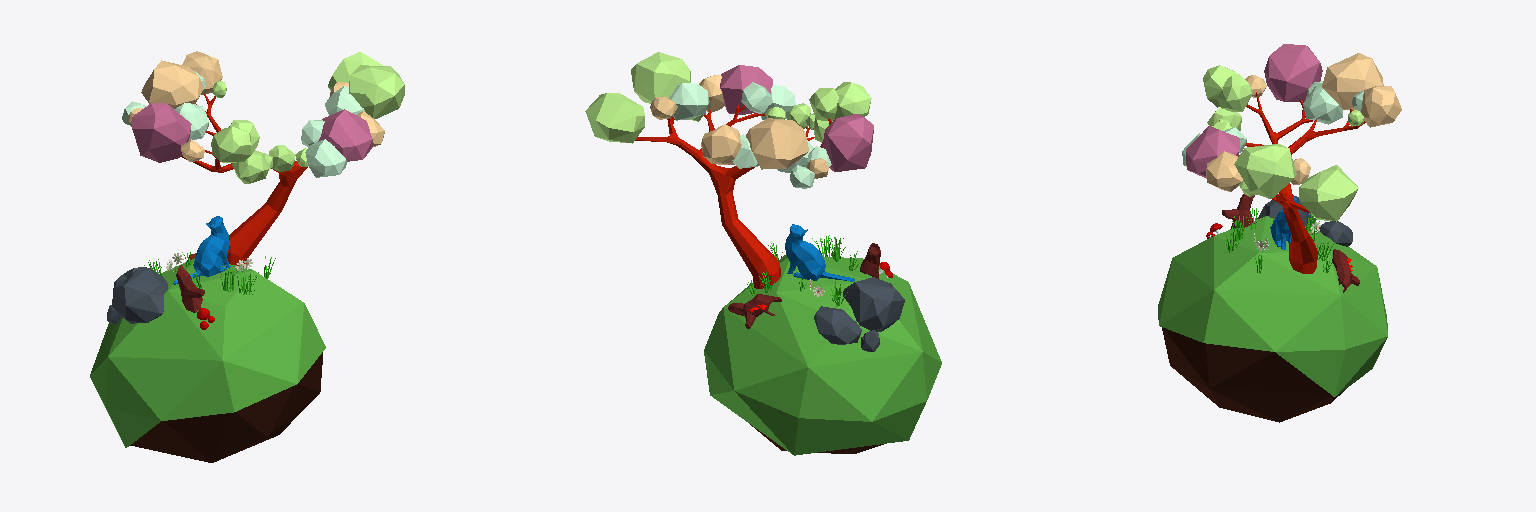
The model's file is 3_lowpolyisland2_forweb_v3.obj.
3 renders of one model, left to right at view 1: azimuth 30°, elevation 25°; view 2: azimuth 150°, elevation 25°; view 3: azimuth 270°, elevation 25°, orthographic.
Visible parts, largest first — view 1: Icosphere.025, Cube, Icosphere.017, Rock1_Icosphere.028, Icosphere.001, Icosphere.010, Icosphere.006, Cat_Plane.001, Icosphere.020, Icosphere.007, Icosphere.011, Icosphere.023 (+5 smaller); view 2: Icosphere.025, Cube, Icosphere.010, Icosphere.017, Rock1_Icosphere.028, Icosphere, Icosphere.001, Cat_Plane.001, Icosphere.006, Rock3_Icosphere.029, Icosphere.011, Icosphere.002 (+6 smaller); view 3: Icosphere.025, Cube, Icosphere.017, Icosphere.001, Icosphere, Icosphere.010, Icosphere.006, Icosphere.011, Icosphere.014, Icosphere.004, Icosphere.021, Icosphere.020 (+4 smaller).
Part boxes in pixels (x1,y1,x2,y2): Icosphere.025: (90,258,325,462); Cube: (181,94,307,266); Icosphere.017: (132,103,191,162); Rock1_Icosphere.028: (112,268,167,323); Icosphere.001: (349,65,404,118); Icosphere.010: (141,60,203,108); Icosphere.006: (318,109,372,161); Cat_Plane.001: (173,216,230,284); Icosphere.020: (211,127,251,162); Icosphere.007: (305,139,346,177); Icosphere.011: (182,51,222,94); Icosphere.023: (232,150,268,183); Icosphere.025: (704,255,941,455); Cube: (635,104,835,288); Icosphere.010: (746,118,808,169); Icosphere.017: (822,114,873,171); Rock1_Icosphere.028: (843,277,904,331); Icosphere: (585,93,644,143); Icosphere.001: (631,52,690,103); Cat_Plane.001: (785,224,854,281); Icosphere.006: (720,65,772,114); Rock3_Icosphere.029: (814,306,861,344); Icosphere.011: (701,124,741,164); Icosphere.002: (669,82,709,120); Icosphere.025: (1158,216,1387,422); Cube: (1239,92,1365,273); Icosphere.017: (1264,44,1322,102); Icosphere.001: (1234,144,1296,198); Icosphere: (1299,165,1358,221); Icosphere.010: (1322,53,1383,110); Icosphere.006: (1186,126,1239,177); Icosphere.011: (1361,86,1401,127); Icosphere.014: (1303,83,1342,124); Icosphere.004: (1206,151,1242,191); Icosphere.021: (1217,74,1251,111); Icosphere.020: (1203,65,1237,107).
Size of the model in its own units: 4.94 by 5.32 by 3.39.